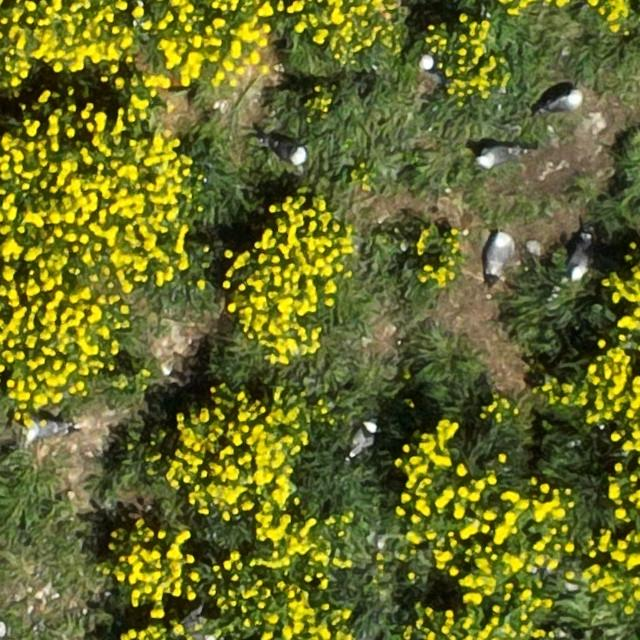umineko: (350, 422, 379, 457), (489, 232, 512, 271), (570, 240, 591, 281), (269, 142, 304, 166), (480, 148, 515, 166), (28, 420, 63, 438), (545, 92, 579, 110)
